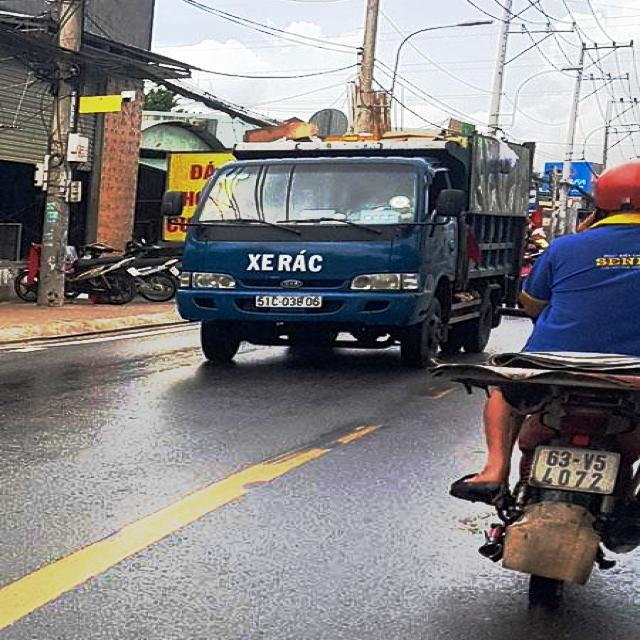license_plate: (532, 447, 620, 494), (257, 296, 324, 309)
